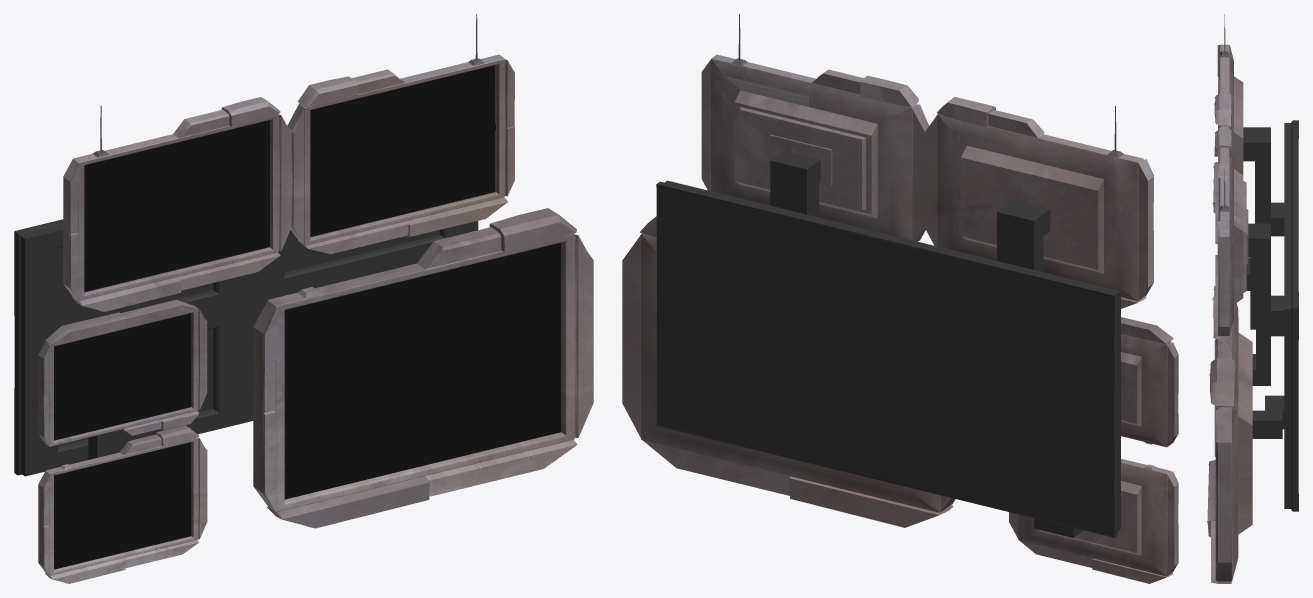
The model's file is monitorArrayTextured.fbx.
3 renders of one model, left to right at view 1: azimuth 30°, elevation 25°; view 2: azimuth 150°, elevation 25°; view 3: azimuth 270°, elevation 25°, orthographic. The views are drawn at different scales.
Parts seen in each view (by area): view 1: screen1, screen2_3, screen4_5, mount; view 2: mount, screen2_3, screen1, screen4_5; view 3: mount, screen1, screen2_3.
Part boxes in pixels (<box>): screen1: <box>253,208,593,528</box>; screen2_3: <box>63,14,514,311</box>; screen4_5: <box>38,300,207,583</box>; mount: <box>14,219,478,476</box>; mount: <box>656,150,1120,537</box>; screen2_3: <box>701,14,1153,308</box>; screen1: <box>622,216,955,527</box>; screen4_5: <box>1009,317,1178,583</box>; mount: <box>1243,120,1298,511</box>; screen1: <box>1207,286,1252,583</box>; screen2_3: <box>1213,14,1248,339</box>.
Size of the model in its own units: 12.35 by 10.07 by 2.13.
5 materials, 3 textured.
